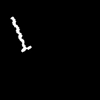half_double_crochet: (11, 17, 30, 51)
